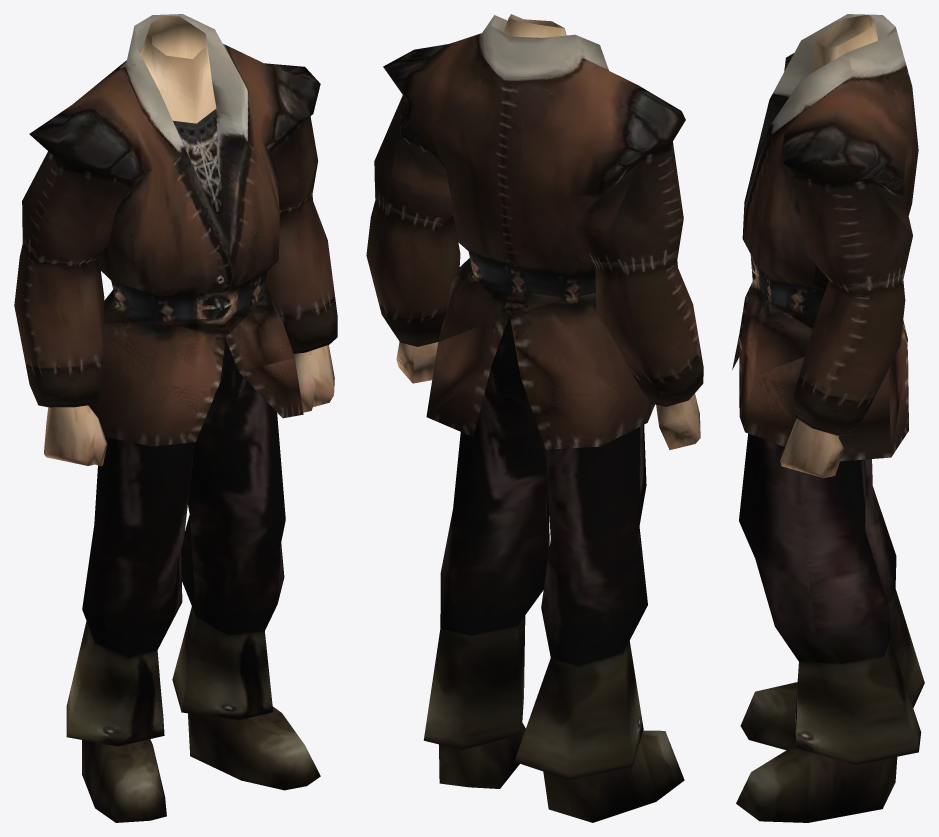
The model's file is ARMOR_KM_VLK_05.glb.
3 views of the same model, side by side, from view 1: azimuth 30°, elevation 25°; view 2: azimuth 150°, elevation 25°; view 3: azimuth 270°, elevation 25° (orthographic). The views are drawn at different scales.
Parts seen in each view (by area): view 1: ARMOR_KM_VLK_05; view 2: ARMOR_KM_VLK_05; view 3: ARMOR_KM_VLK_05.
Boxes of the visible parts, x1=… form: ARMOR_KM_VLK_05: x1=14, y1=14, x2=337, y2=822; ARMOR_KM_VLK_05: x1=366, y1=14, x2=703, y2=822; ARMOR_KM_VLK_05: x1=732, y1=14, x2=924, y2=822.
Size of the model in its own units: 0.6986 by 1.69 by 0.3904.
Materials: 2 (2 with a texture image).
